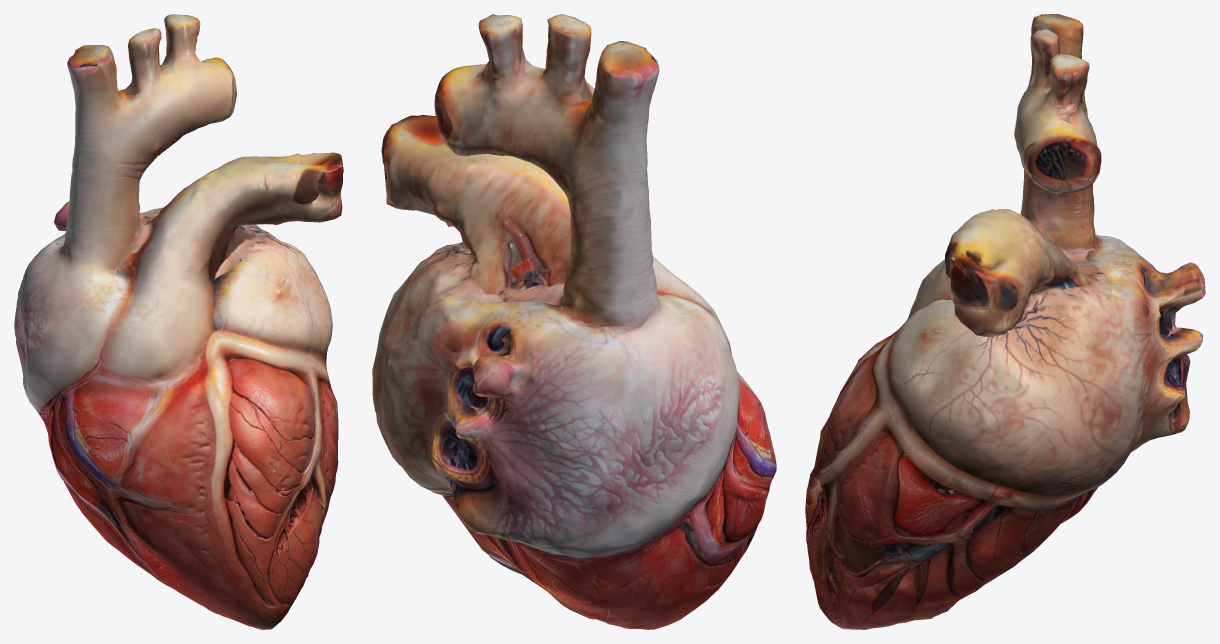
Rendered from jantung.glb.
3 renders of one model, left to right at view 1: azimuth 30°, elevation 25°; view 2: azimuth 150°, elevation 25°; view 3: azimuth 270°, elevation 25°, orthographic. The views are drawn at different scales.
Size of the model in its own units: 0.6768 by 1.2 by 0.7511.
Materials: 1 (1 with a texture image).
